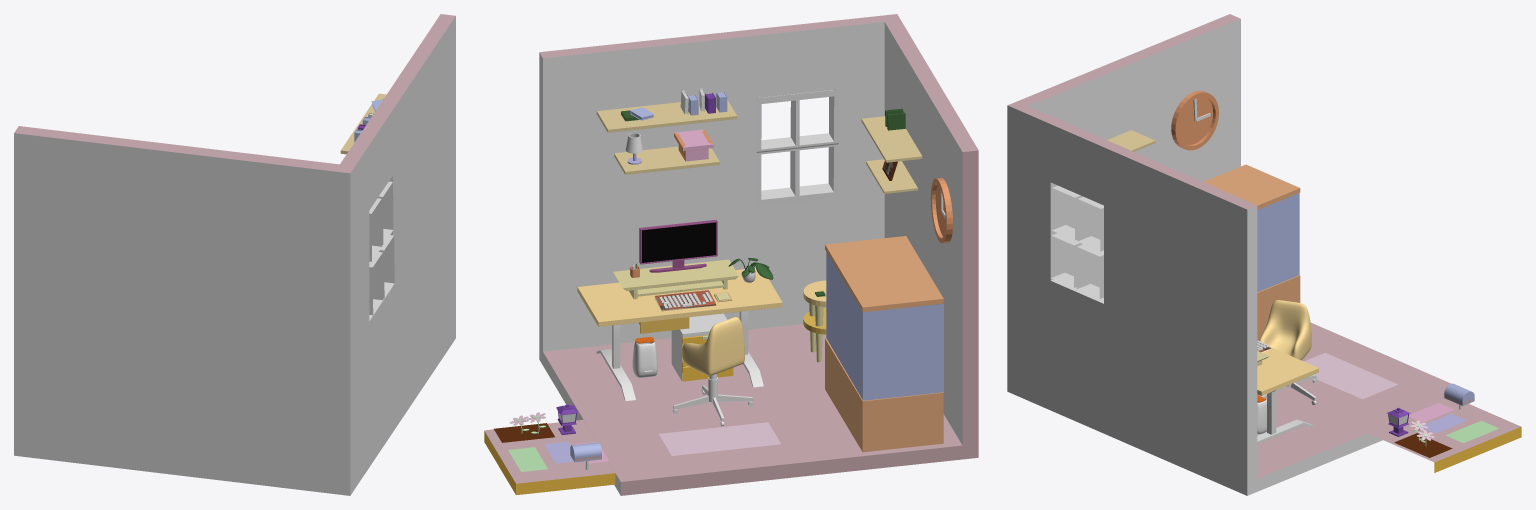
3 views of the same model, side by side, from view 1: azimuth 30°, elevation 25°; view 2: azimuth 150°, elevation 25°; view 3: azimuth 270°, elevation 25° (orthographic). The views are drawn at different scales.
Visible parts, largest first — view 1: Cube.010, Plane; view 2: Cube.010, Cube.095, Cube.096, Cube, Plane, Cube.103, Cube.009, Plane.005, screen, Cube.094, Cube.084, Cube.083 (+16 smaller); view 3: Cube.010, Plane, Cube.103, Cube.096, Cube.095, Cube.094, Cylinder.011, Plane.005, Cube, Plane.006, Cube.107, Plane.007.
Boxes of the visible parts, <box> form: Cube.010: <box>14,14,455,495</box>; Plane: <box>369,181,394,315</box>; Cube.010: <box>539,14,978,495</box>; Cube.095: <box>825,236,943,452</box>; Cube.096: <box>826,252,943,400</box>; Cube: <box>577,268,782,326</box>; Plane: <box>756,89,838,206</box>; Cube.103: <box>484,419,615,495</box>; Cube.009: <box>613,259,738,299</box>; Plane.005: <box>659,422,780,455</box>; screen: <box>642,222,715,262</box>; Cube.094: <box>682,317,744,375</box>; Cube.084: <box>596,98,737,132</box>; Cube.083: <box>614,146,719,174</box>; Cube.010: <box>1007,14,1469,495</box>; Plane: <box>1051,185,1103,299</box>; Cube.103: <box>1368,400,1521,472</box>; Cube.096: <box>1257,193,1299,291</box>; Cube.095: <box>1204,164,1300,340</box>; Cube.094: <box>1259,300,1311,360</box>; Cylinder.011: <box>1171,91,1218,150</box>; Plane.005: <box>1304,352,1397,399</box>; Cube: <box>1257,346,1318,395</box>; Plane.006: <box>1394,433,1452,457</box>; Cube.107: <box>1107,130,1155,151</box>; Plane.007: <box>1446,420,1498,442</box>.
Size of the model in its own units: 28.61 by 19.52 by 31.76.
25 materials, 1 textured.
